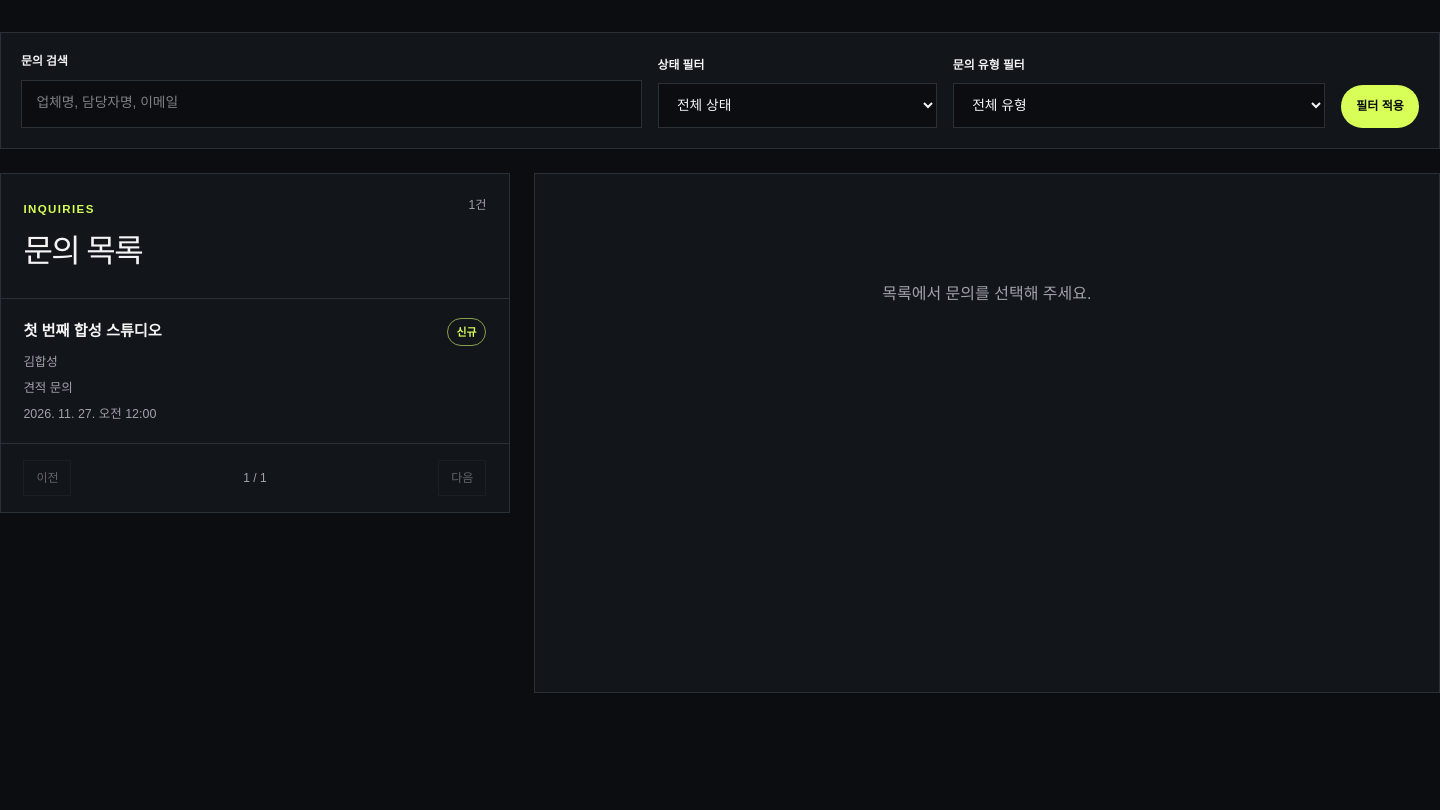
Test: 관리자 문의 관리 화면 › 저장 후 현재 목록에서 제외된 문의의 상세 편집기를 닫는다
Click the button with aria-label "첫 번째 합성 스튜디오 김합성": (93, 331) [1,299,509,443]
(page scrolled)
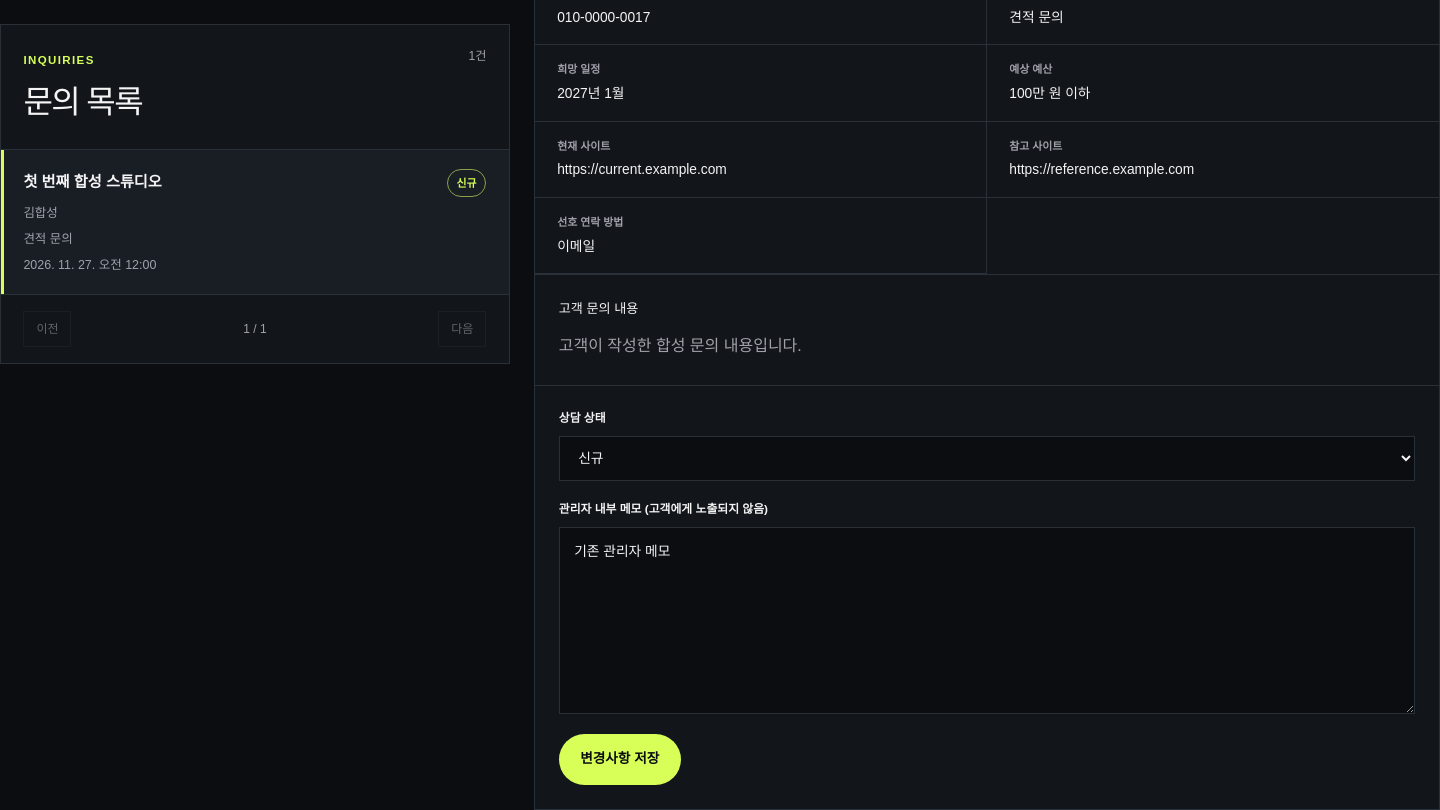
Result: the heading "고객 문의 내용" is shown at [559,302,638,316]
Select "상담 완료" in the dropdown labelled "상담 상태": (987, 459) [559,436,1415,481]
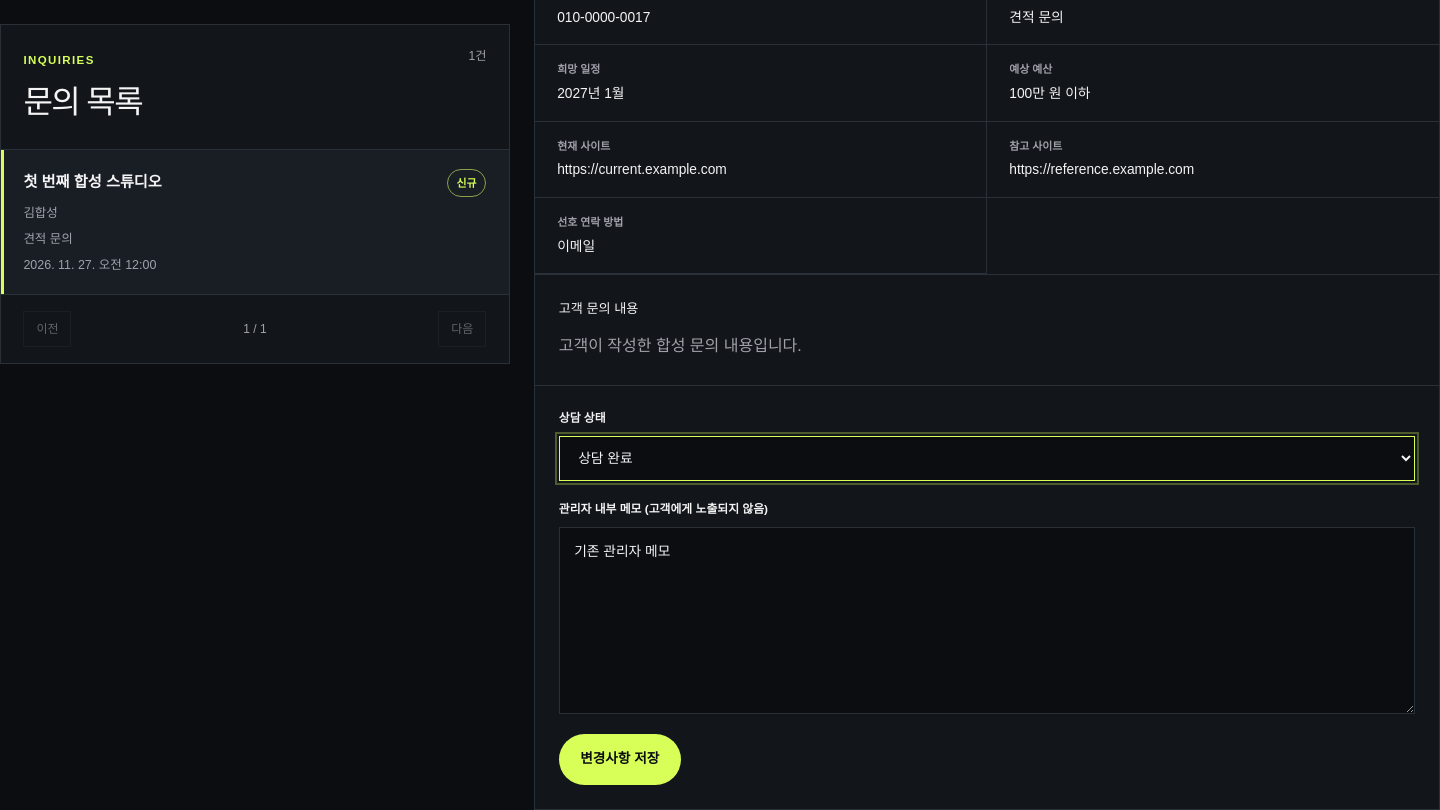
Click the button "변경사항 저장": (620, 759) [559,734,681,785]
(page scrolled)
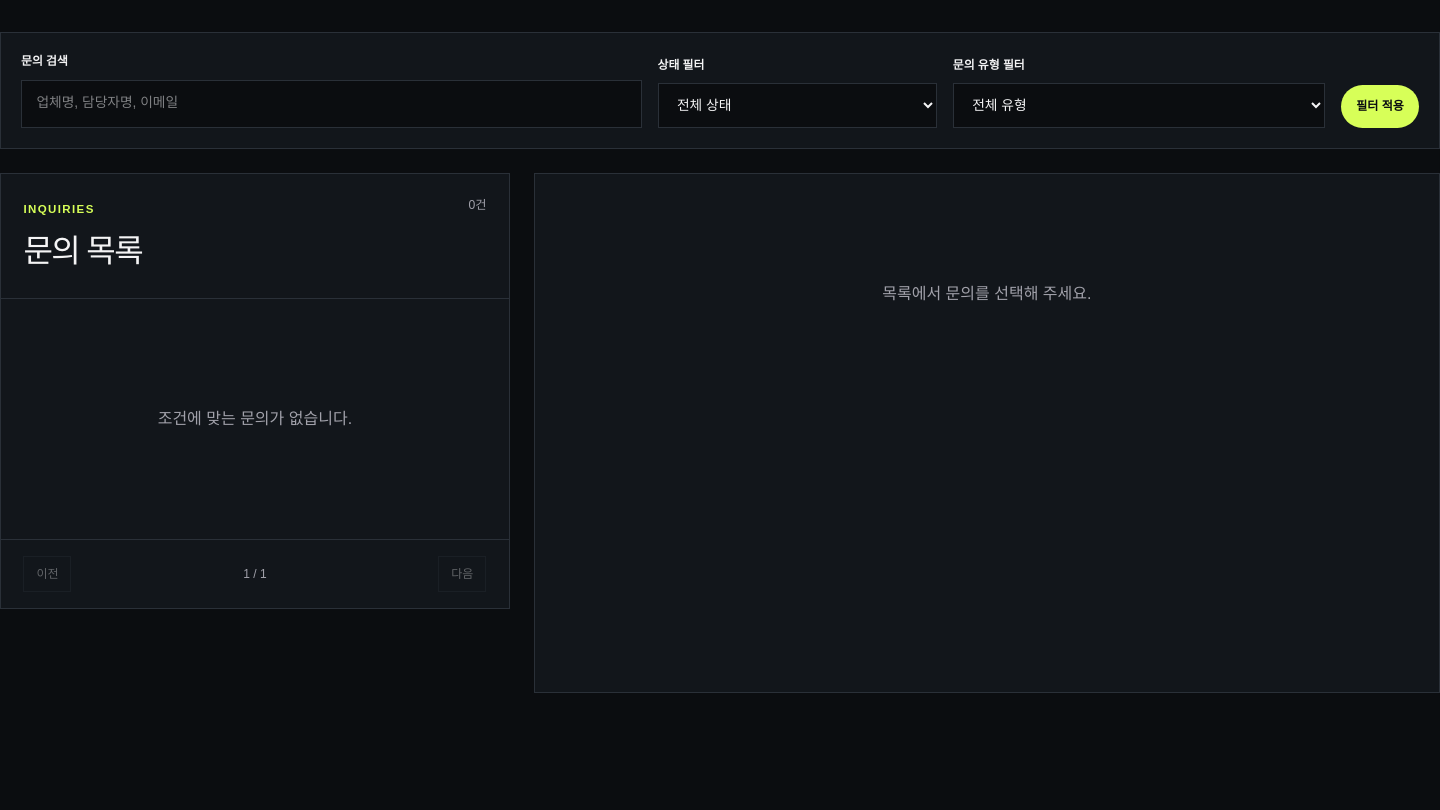
Result: the text "조건에 맞는 문의가 없습니다." is shown at [158,410,352,427]
Result: the text "목록에서 문의를 선택해 주세요." is shown at [882,285,1092,302]
Result: the button "변경사항 저장" is gone
